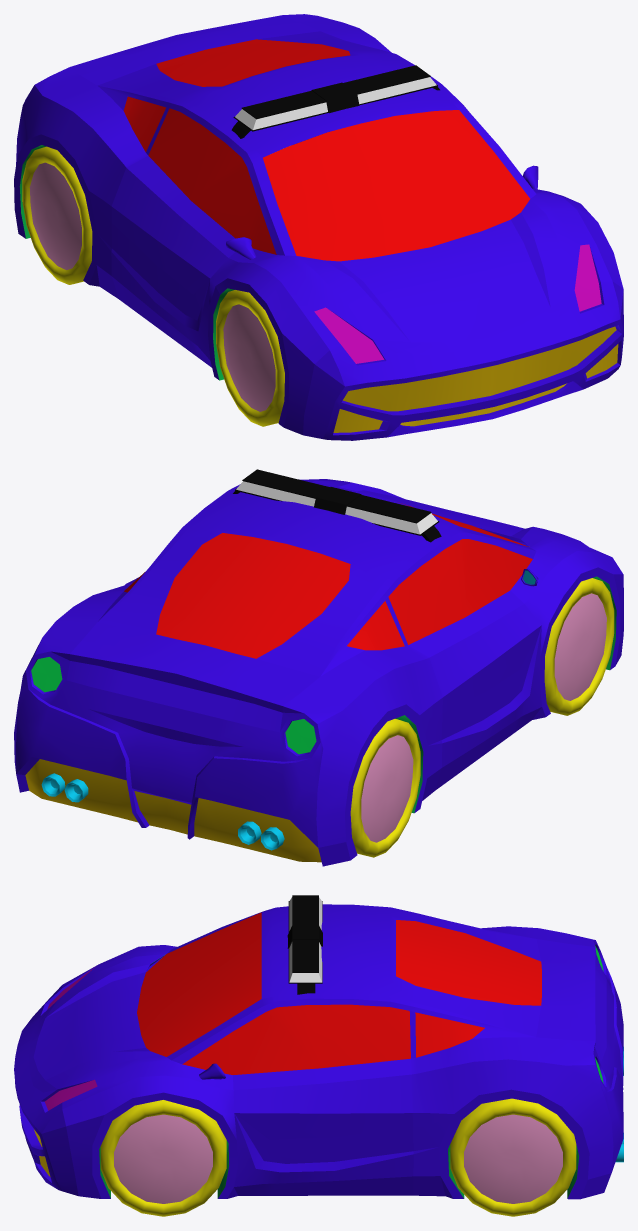
Rendered from 12_PegasusF4Police_ColorCoded.fbx.
3 renders of one model, top to bottom at view 1: azimuth 30°, elevation 25°; view 2: azimuth 150°, elevation 25°; view 3: azimuth 270°, elevation 25°, orthographic. The views are drawn at different scales.
Parts seen in each view (by area): view 1: Body, tireBackR, tireFrontR, police_light; view 2: Body, tireBackR, tireFrontR, police_light; view 3: Body, tireBackL, tireFrontL, police_light.
Boxes of the visible parts, x1=… form: Body: x1=14, y1=14, x2=623, y2=440; tireBackR: x1=22, y1=146, x2=92, y2=284; tireFrontR: x1=216, y1=290, x2=284, y2=426; police_light: x1=231, y1=65, x2=439, y2=138; Body: x1=14, y1=479, x2=623, y2=866; tireBackR: x1=350, y1=719, x2=420, y2=857; tireFrontR: x1=544, y1=578, x2=614, y2=715; police_light: x1=233, y1=469, x2=441, y2=542; Body: x1=14, y1=904, x2=623, y2=1199; tireBackL: x1=450, y1=1098, x2=576, y2=1216; tireFrontL: x1=100, y1=1100, x2=226, y2=1216; police_light: x1=287, y1=895, x2=322, y2=994.
Bounding box in the file's own units: 62.96 × 109 × 41.35.
